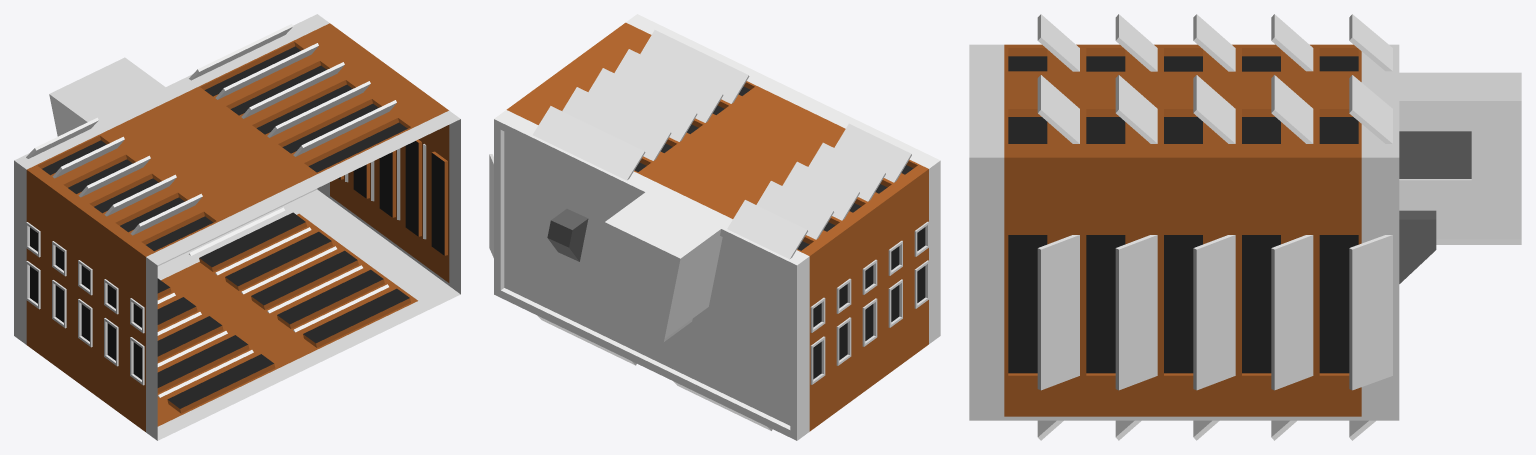
Rendered from One16.fbx.
3 views of the same model, side by side, from view 1: azimuth 30°, elevation 25°; view 2: azimuth 150°, elevation 25°; view 3: azimuth 270°, elevation 25° (orthographic). The views are drawn at different scales.
Visible parts, largest first — view 1: Cube; view 2: Cube; view 3: Cube.
Part boxes in pixels (box(x1,y1,x2,y2)): Cube: box(14, 14, 460, 440); Cube: box(489, 14, 940, 440); Cube: box(969, 14, 1521, 440).
Size of the model in its own units: 31.37 by 25.05 by 30.81.
